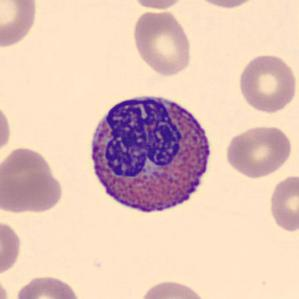Eosinophil: (82, 86, 219, 225)
RBC: (130, 7, 194, 78), (0, 145, 63, 215), (224, 122, 294, 180), (236, 52, 297, 114), (18, 170, 66, 214), (0, 0, 40, 50), (266, 173, 298, 234), (13, 273, 82, 299), (136, 277, 209, 299), (0, 218, 24, 276), (0, 99, 13, 158), (127, 0, 190, 12), (189, 0, 263, 10), (0, 274, 12, 299)
